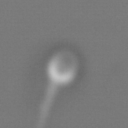normal: (35, 81, 64, 128)
